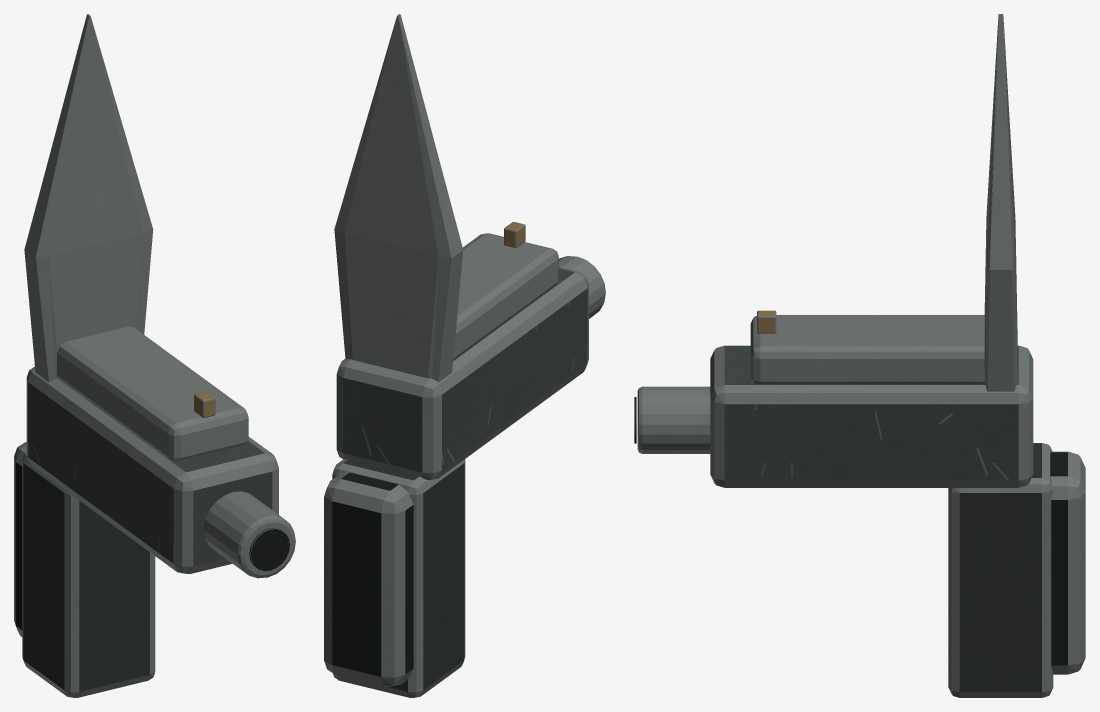
Rendered from special-equipment.glb.
3 renders of one model, left to right at view 1: azimuth 30°, elevation 25°; view 2: azimuth 150°, elevation 25°; view 3: azimuth 270°, elevation 25°, orthographic.
Visible parts, largest first — view 1: Built in finisher edge, Blade retracting case, Compact receiver, Recoil slide, Steel pistol barrel, Compact pistol grip, Pistol bore, Sight; view 2: Built in finisher edge, Compact receiver, Compact pistol grip, Blade retracting case, Recoil slide, Steel pistol barrel, Sight; view 3: Compact receiver, Blade retracting case, Recoil slide, Built in finisher edge, Compact pistol grip, Steel pistol barrel.
Part boxes in pixels (x1=…): Built in finisher edge: x1=24, y1=14, x2=153, y2=381; Blade retracting case: x1=22, y1=452, x2=155, y2=697; Compact receiver: x1=26, y1=366, x2=278, y2=573; Recoil slide: x1=56, y1=326, x2=248, y2=460; Steel pistol barrel: x1=203, y1=491, x2=295, y2=578; Compact pistol grip: x1=14, y1=442, x2=26, y2=636; Pistol bore: x1=249, y1=528, x2=290, y2=571; Sight: x1=194, y1=391, x2=215, y2=417; Built in finisher edge: x1=334, y1=14, x2=463, y2=381; Compact receiver: x1=336, y1=267, x2=588, y2=479; Compact pistol grip: x1=324, y1=472, x2=413, y2=686; Blade retracting case: x1=332, y1=459, x2=465, y2=697; Recoil slide: x1=453, y1=233, x2=558, y2=359; Steel pistol barrel: x1=558, y1=256, x2=605, y2=318; Sight: x1=504, y1=222, x2=525, y2=247; Compact receiver: x1=710, y1=345, x2=1033, y2=487; Blade retracting case: x1=948, y1=443, x2=1053, y2=697; Recoil slide: x1=750, y1=315, x2=984, y2=384; Built in finisher edge: x1=984, y1=14, x2=1017, y2=391; Compact pistol grip: x1=1050, y1=451, x2=1085, y2=674; Steel pistol barrel: x1=637, y1=386, x2=710, y2=453.
Size of the model in its own units: 0.17 by 0.91 by 0.559.
7 materials, 7 textured.
